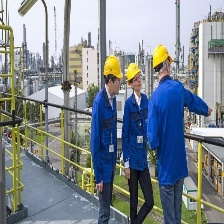helmet: (152, 44, 173, 73), (104, 54, 122, 82), (127, 61, 142, 87)
no-vest: (154, 80, 191, 187), (92, 88, 120, 182), (125, 91, 149, 172)
person: (148, 44, 187, 224), (92, 52, 123, 224), (124, 61, 155, 224)
